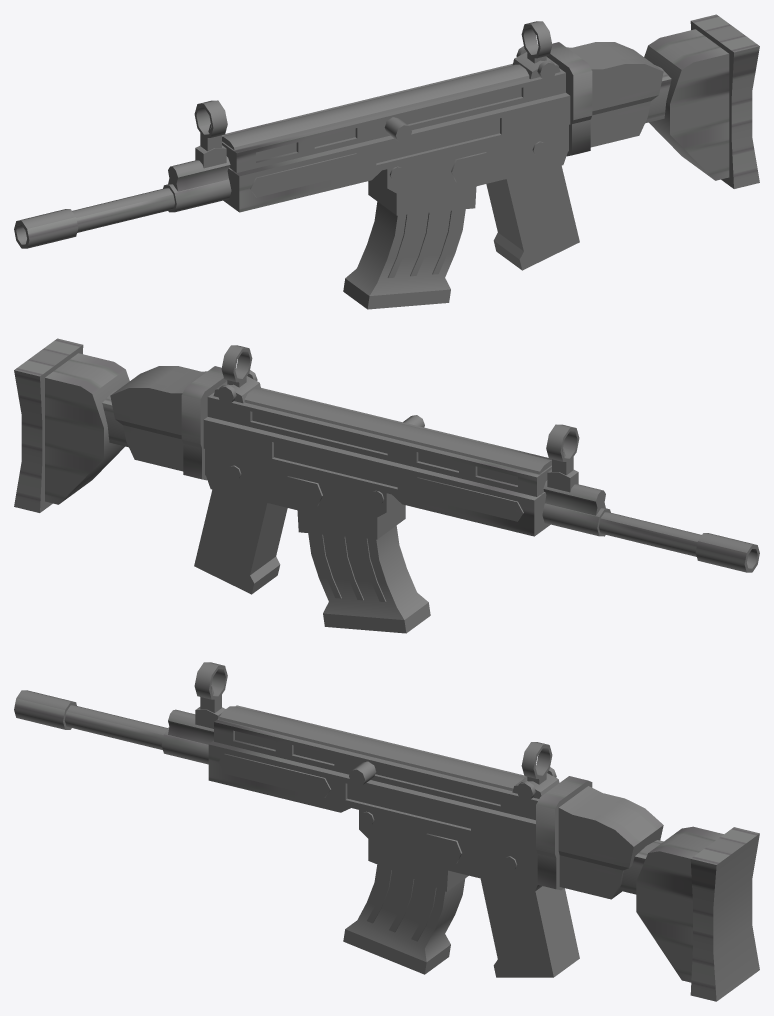
File: Gun_01.fbx
The picture shows the model from 3 angles, top to bottom: view 1: azimuth 30°, elevation 25°; view 2: azimuth 150°, elevation 25°; view 3: azimuth 330°, elevation 25°; orthographic projection.
Visible parts, largest first — view 1: Gun_01; view 2: Gun_01; view 3: Gun_01.
Part boxes in pixels (x1,y1,x2,y2): Gun_01: (14,14,759,309); Gun_01: (14,338,759,633); Gun_01: (14,662,759,1001).
Bounding box in the file's own units: 385 × 127 × 42.04.
Materials: 5 (5 with a texture image).
